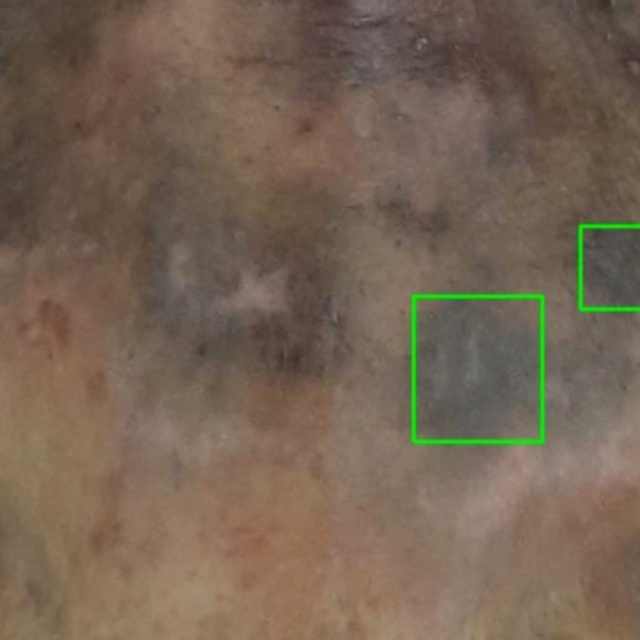Tinea Corporis: (413, 296, 542, 441), (580, 226, 639, 309)
